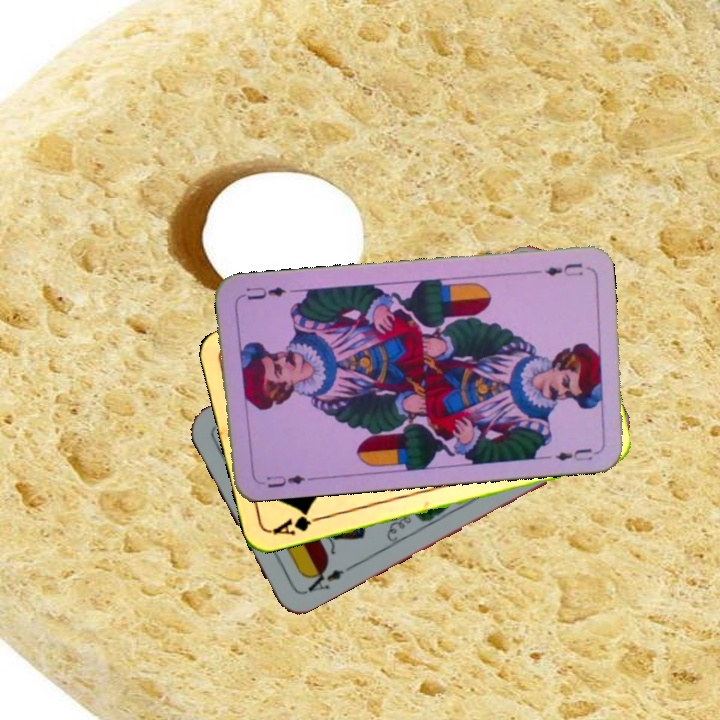EA: (300, 562, 347, 596)
EU: (262, 471, 314, 491), (540, 259, 586, 279)
GA: (267, 506, 326, 538)
